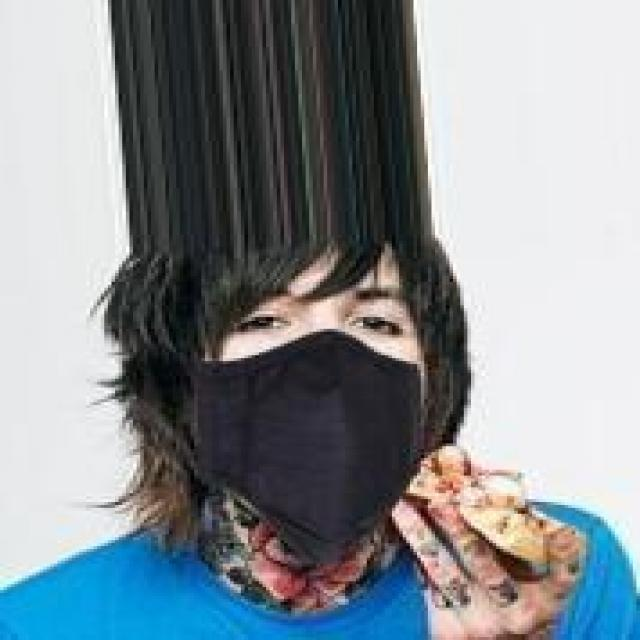mask: (86, 240, 511, 566)
